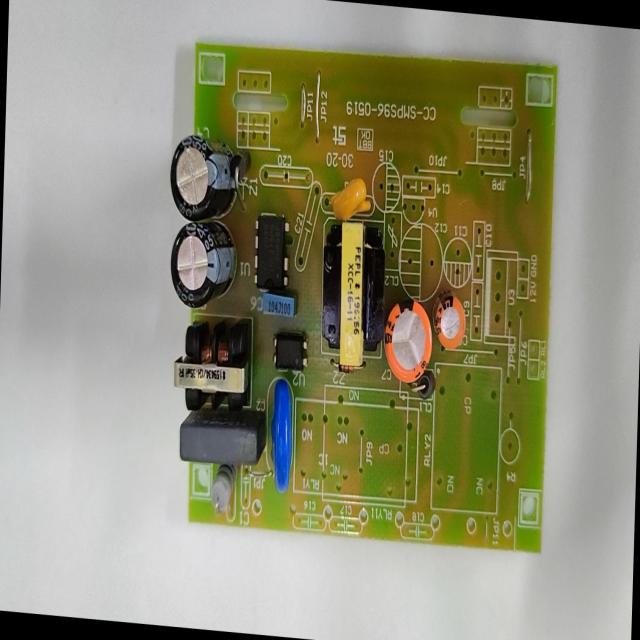Cap1: (382, 291, 434, 390)
Cap2: (433, 285, 469, 358)
Cap3: (166, 215, 240, 314)
Cap4: (166, 129, 240, 221)
MOSFET: (251, 207, 293, 296)
Mov: (266, 373, 298, 500)
Resistor: (206, 461, 236, 521)
Transformer: (318, 213, 388, 373), (169, 314, 253, 415)
